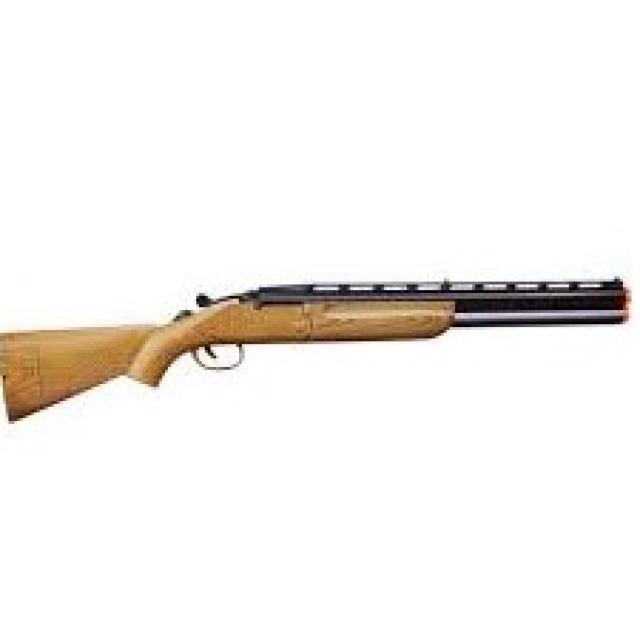rifle: (1, 267, 634, 433)
